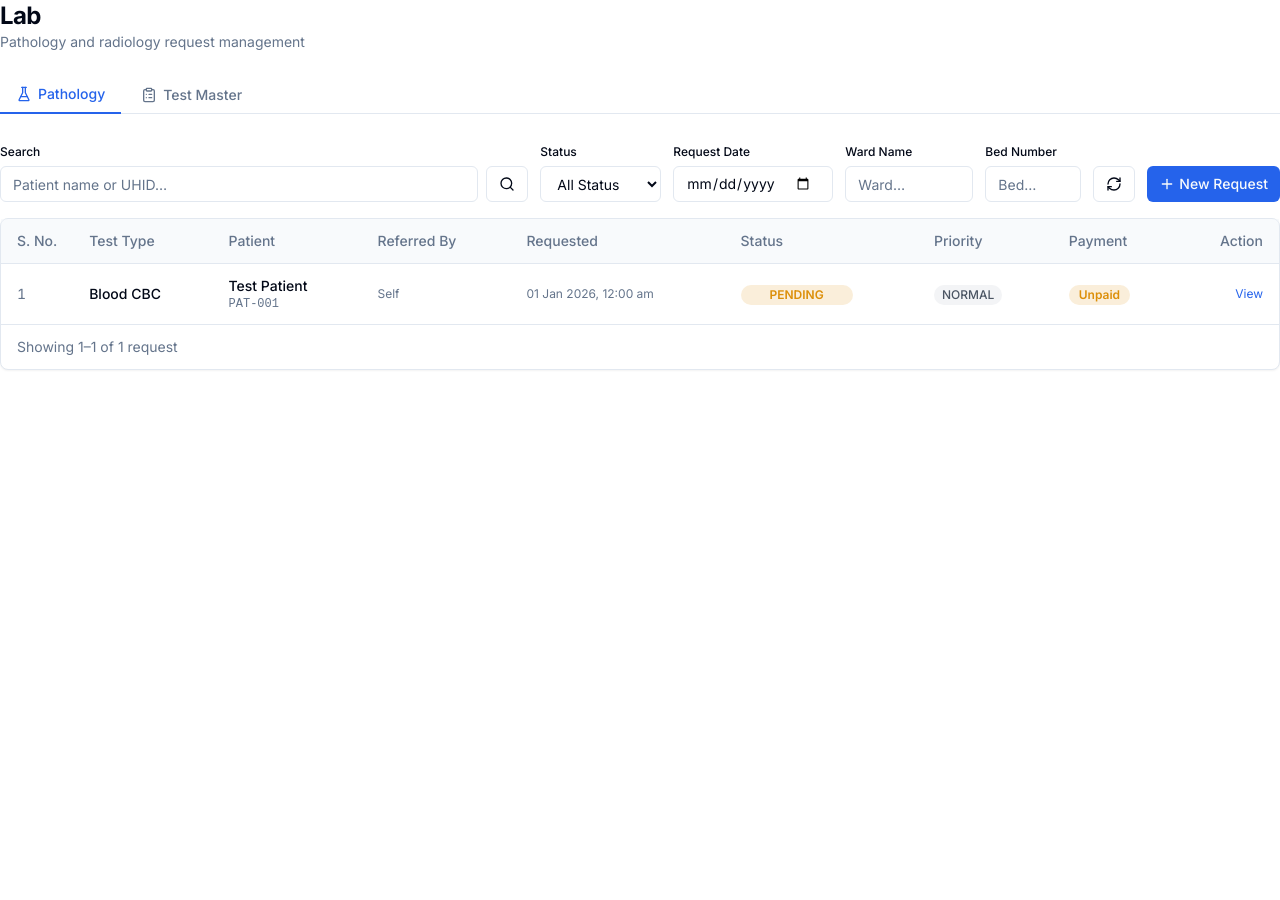
Scenario: DeleteRequestModal — pathology › shows 403 inline error when deleting a COMPLETED request without permission
This screenshot has width=1280, height=900.
What coordinates should you click on to do the following:
click the button "View"
I would click on:
 (1249, 294)
Its box is x1=1235 y1=286 x2=1263 y2=302.
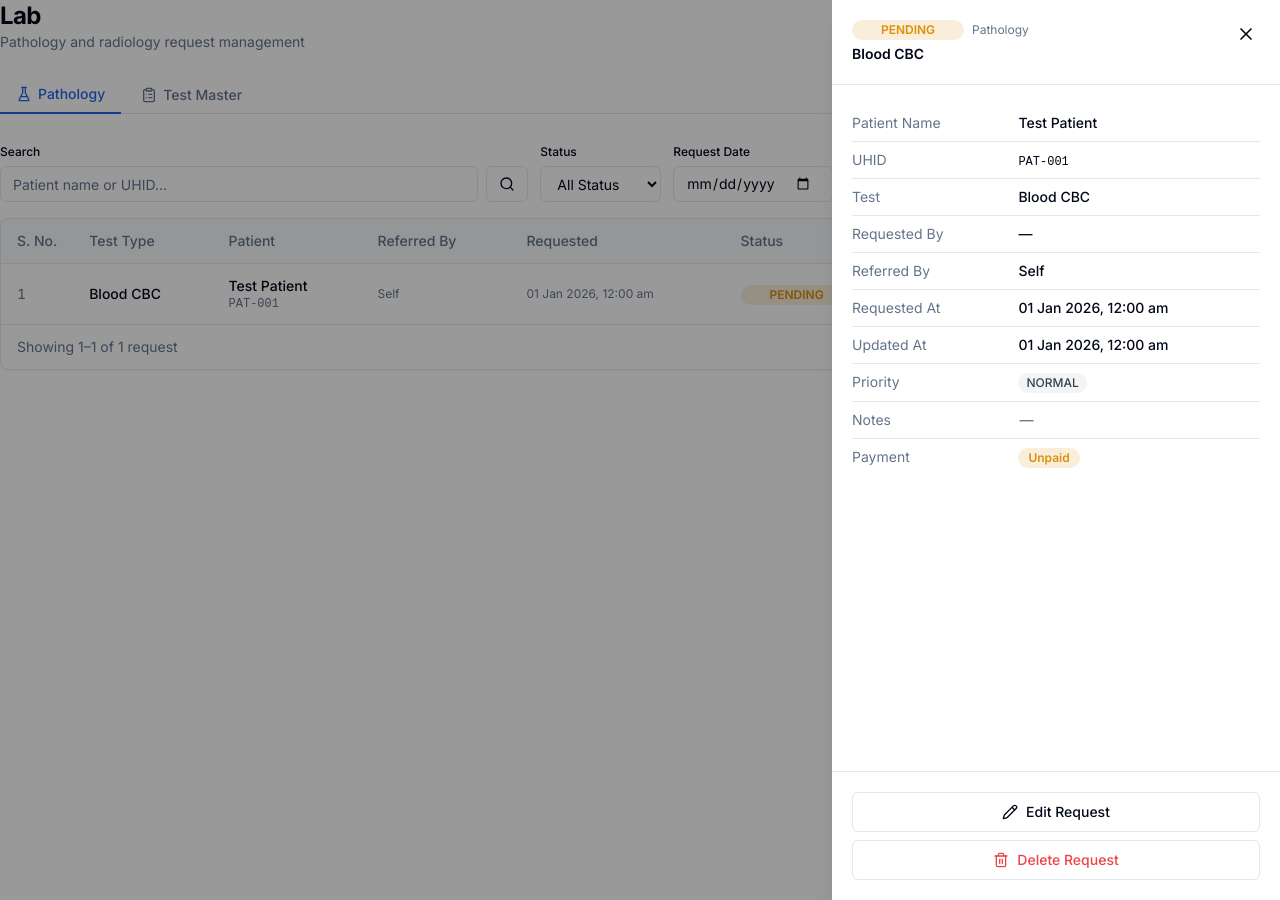
What coordinates should you click on to do the following:
click the button "Delete Request"
I would click on:
 (1056, 860)
Its box is x1=852 y1=840 x2=1260 y2=880.
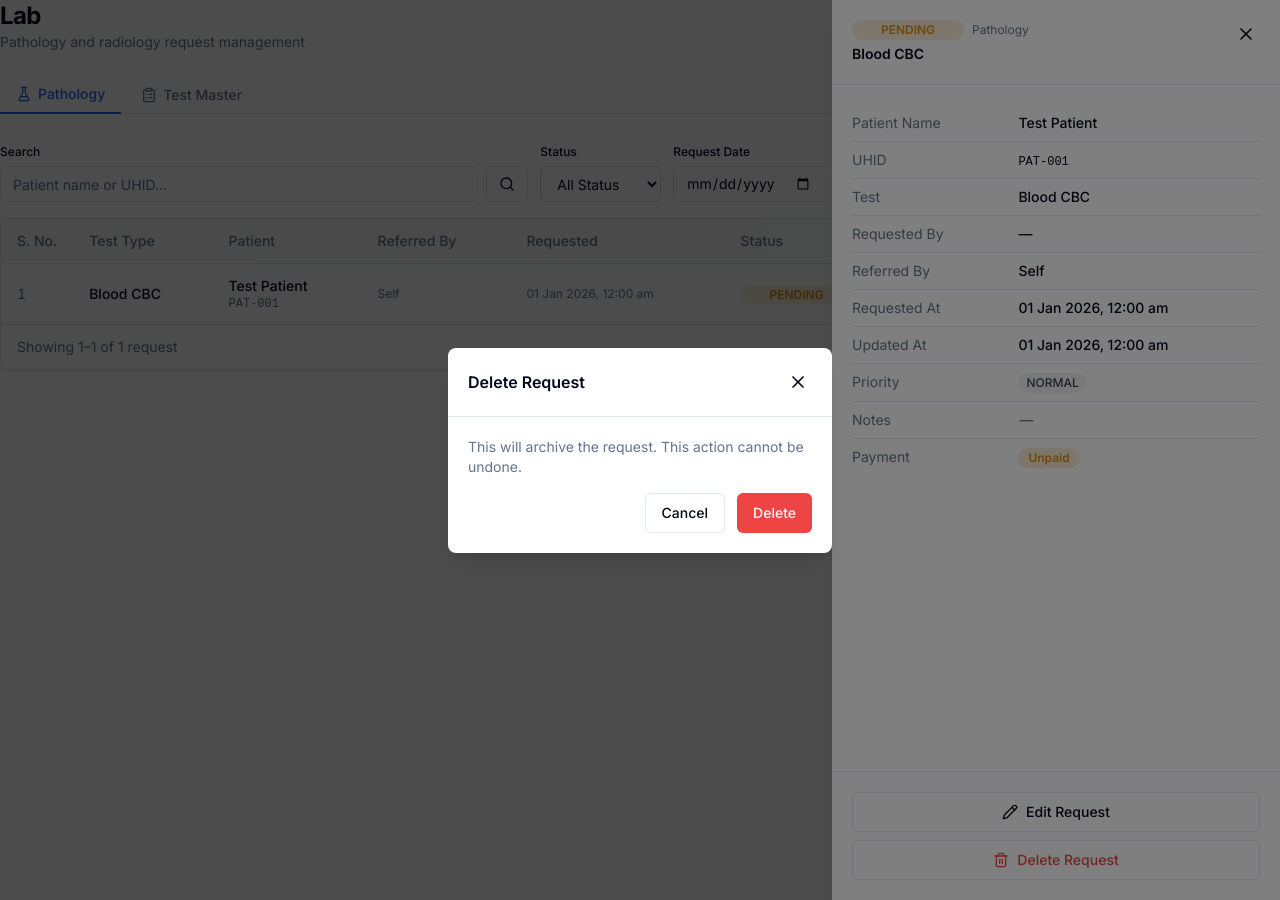
What coordinates should you click on to do the following:
click the button "Delete"
I would click on:
 (775, 512)
Its box is x1=737 y1=492 x2=812 y2=532.
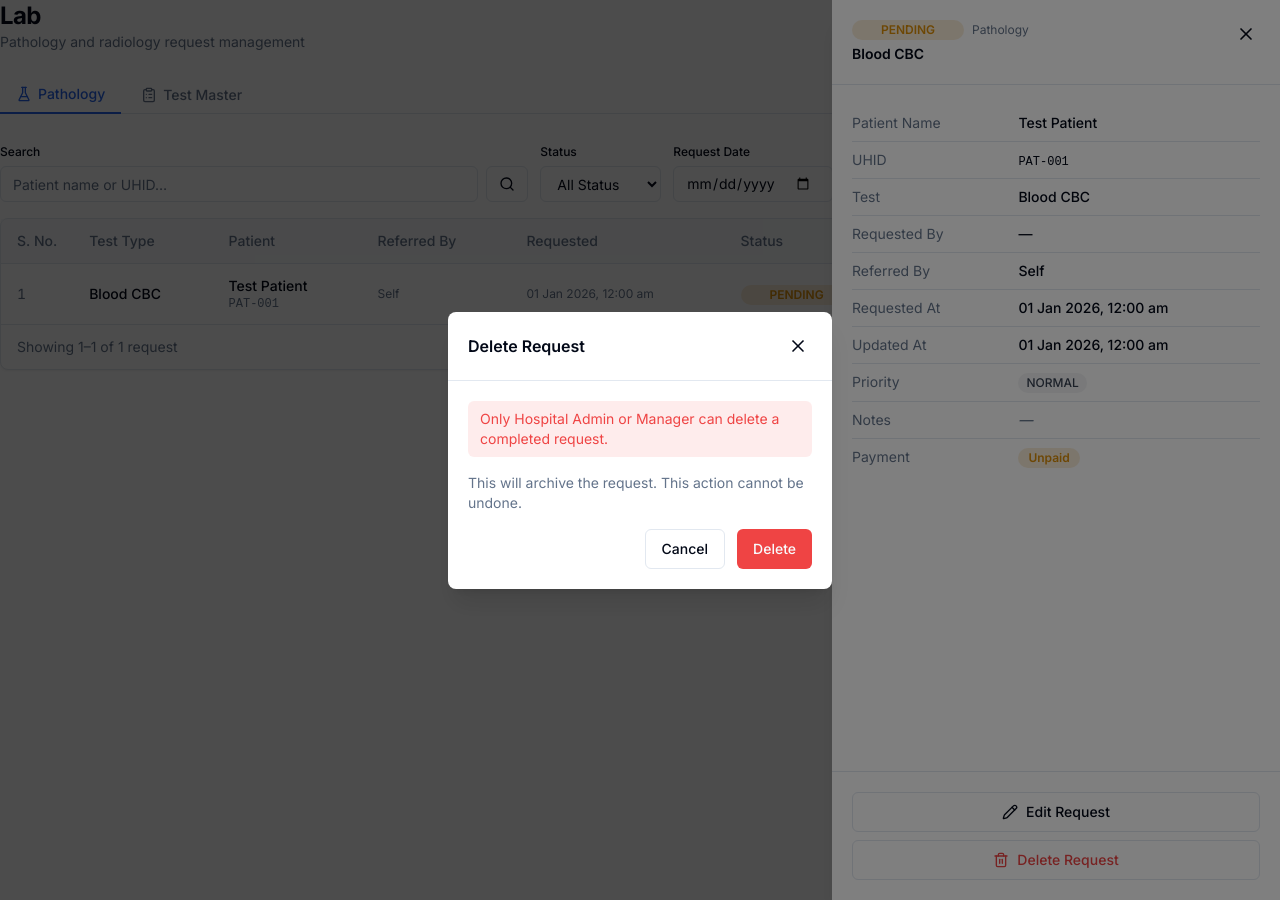
Check: the text "Only Hospital Admin or Manager" is shown, box x1=480 y1=410 x2=779 y2=446
